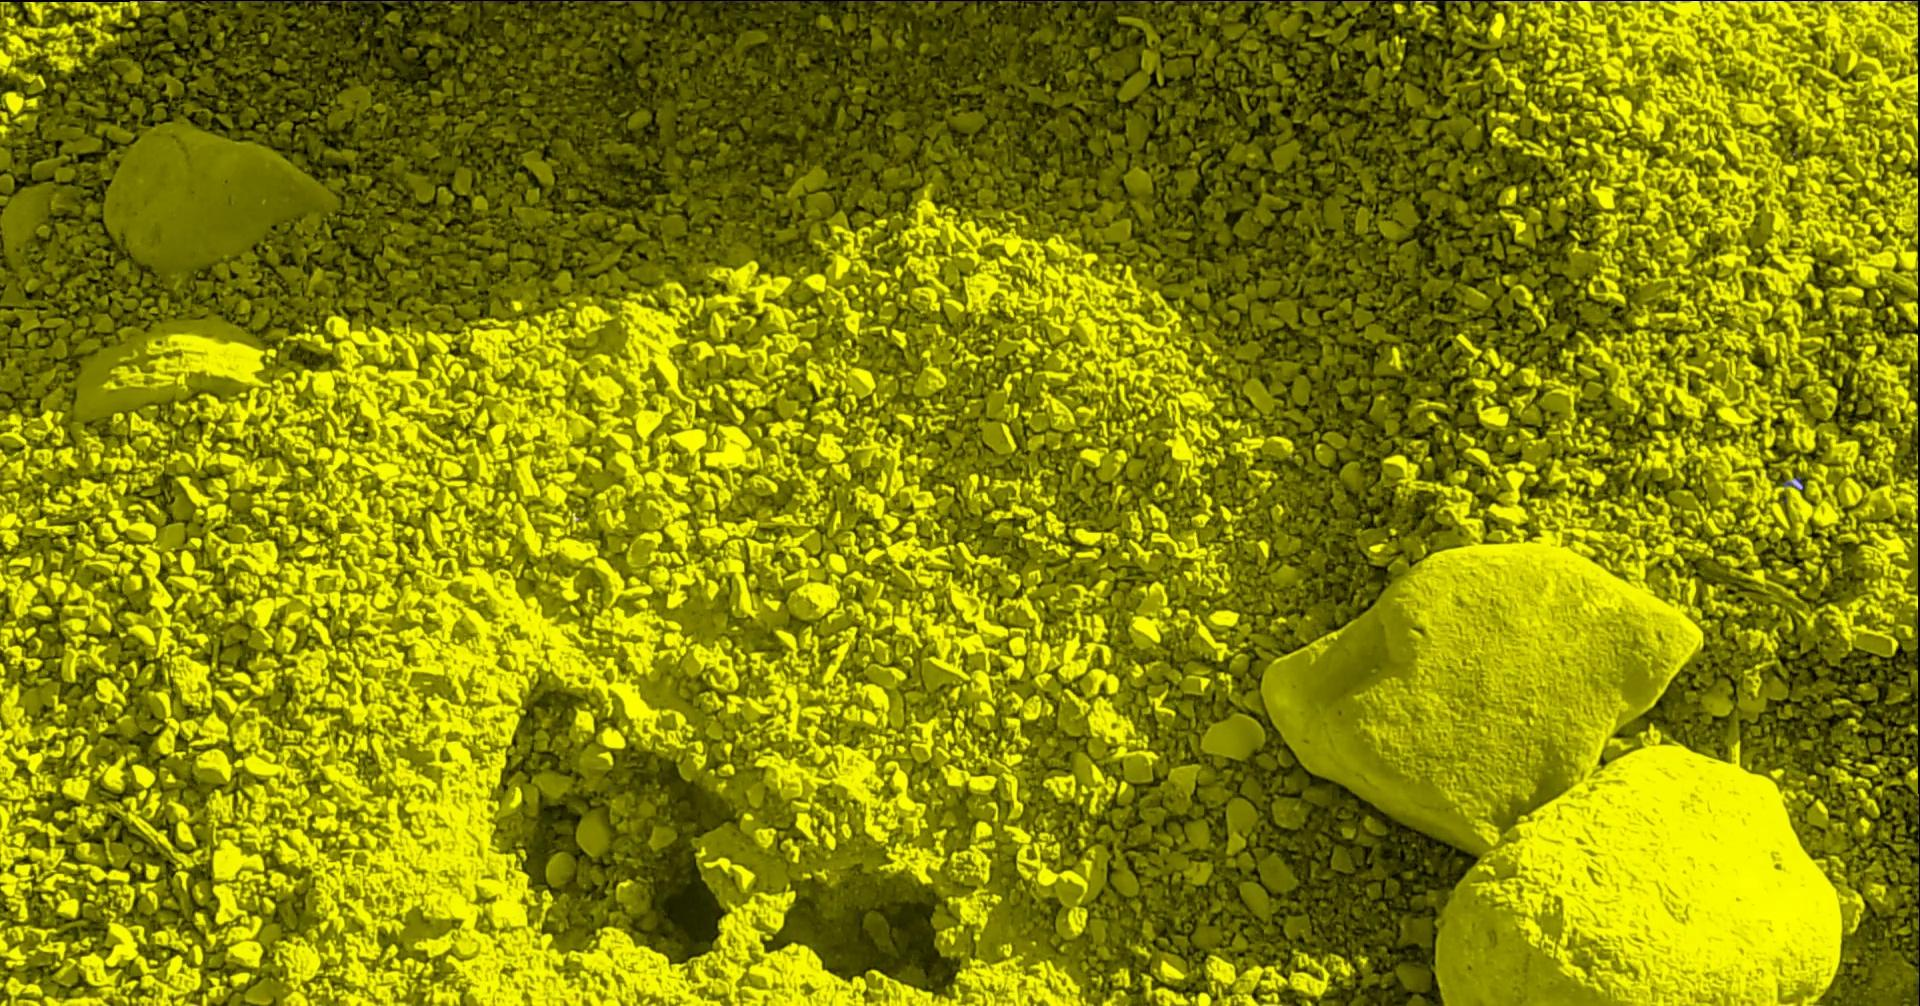ant: (1784, 476, 1807, 489), (999, 0, 1079, 3), (203, 0, 265, 3), (872, 0, 930, 1)
